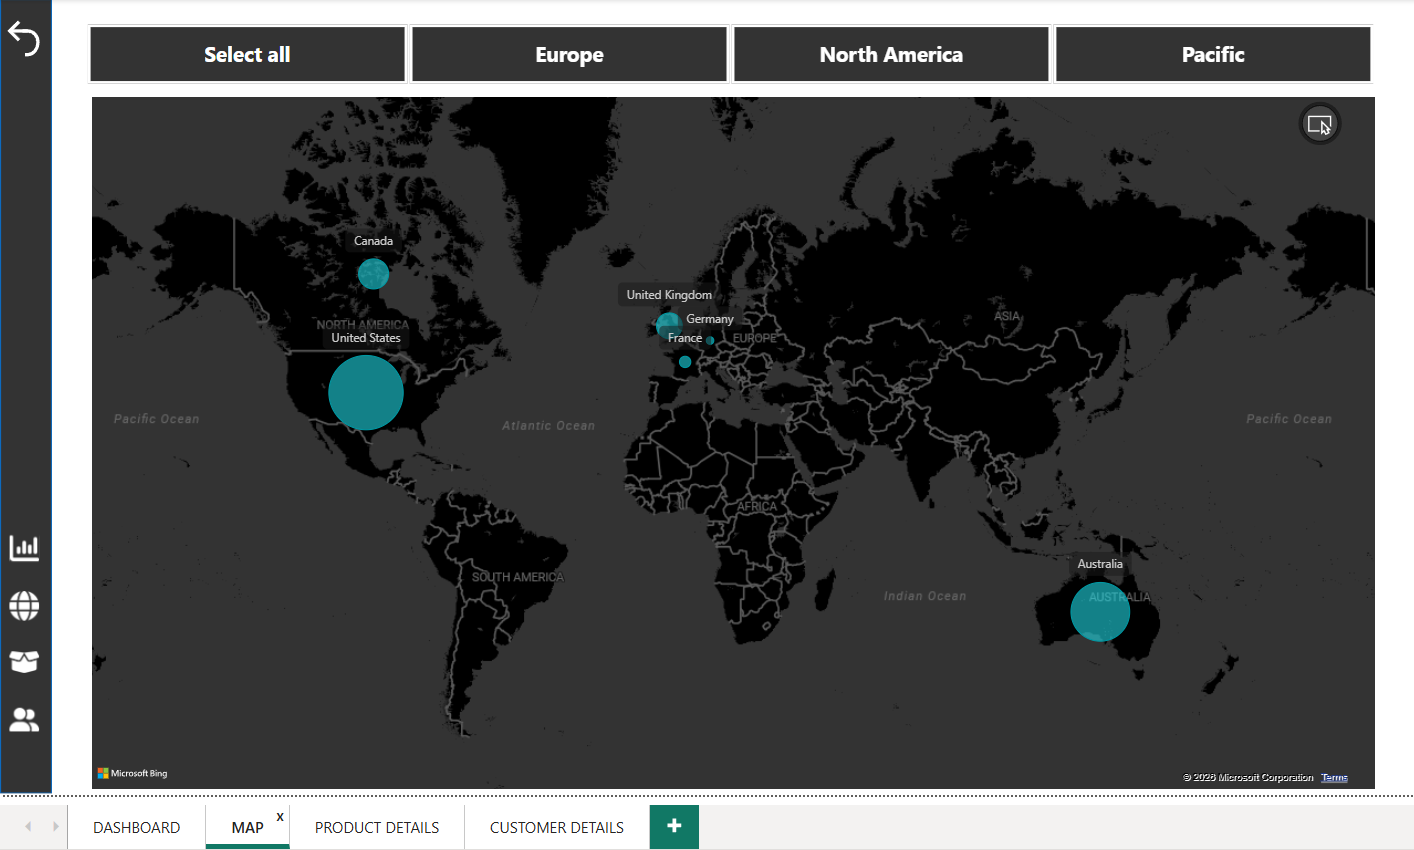

The page's visual inventory and layout, read from the dashboard file:
{"tool":"powerbi","page":{"name":"MAP","canvas":[1280,720],"ordinal":1},"visuals":[{"type":"shape","box":[0,0,47,718.7],"z":0},{"type":"map","fields":{"Category":["Territory Lookup.Country"],"Size":["Measure table.Total Order"]},"box":[78,83.9,1170.7,636],"z":1000},{"type":"actionButton","box":[4.7,471.8,34.8,51.5],"z":1000,"group":"g1"},{"type":"slicer","fields":{"Values":["Territory Lookup.Continent"]},"box":[53.5,16.3,1212.8,67.4],"z":2000},{"type":"actionButton","box":[4.7,523.3,34.8,51.5],"z":2000,"group":"g1"},{"type":"actionButton","box":[0,12.8,43.1,46.6],"z":3000},{"type":"actionButton","box":[4.7,574.8,34.8,51.5],"z":3000,"group":"g1"},{"type":"group","id":"g1","title":"Navigation","box":[4.7,471.8,34.9,206.2],"z":4000},{"type":"actionButton","box":[4.7,626.3,34.8,51.5],"z":4000,"group":"g1"}]}

Visuals, with their boxes in screenshot pixels (x1, y1, x2, y2):
shape: bbox(4, 4, 55, 787)
map - Territory Lookup.Country x Measure table.Total Order: bbox(89, 95, 1364, 788)
actionButton: bbox(9, 518, 47, 574)
slicer - Territory Lookup.Continent: bbox(62, 21, 1383, 95)
actionButton: bbox(9, 574, 47, 630)
actionButton: bbox(4, 18, 51, 68)
actionButton: bbox(9, 630, 47, 686)
"Navigation" group: bbox(9, 518, 47, 742)
actionButton: bbox(9, 686, 47, 742)
